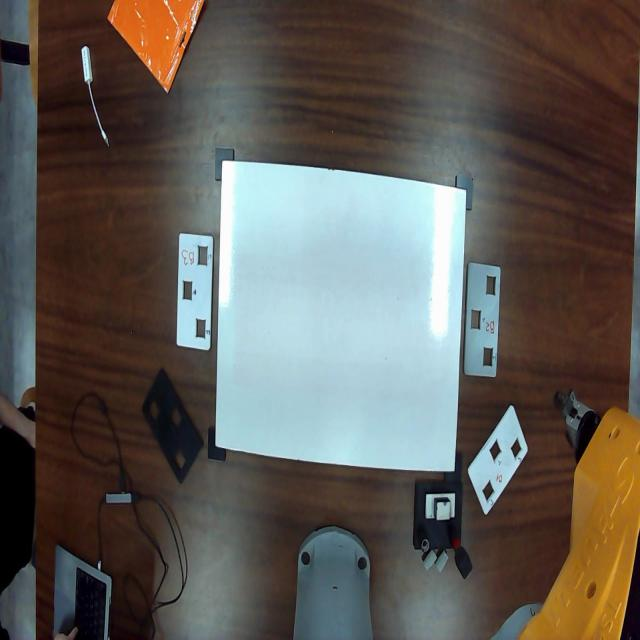default_frame: (215, 160, 466, 472)
